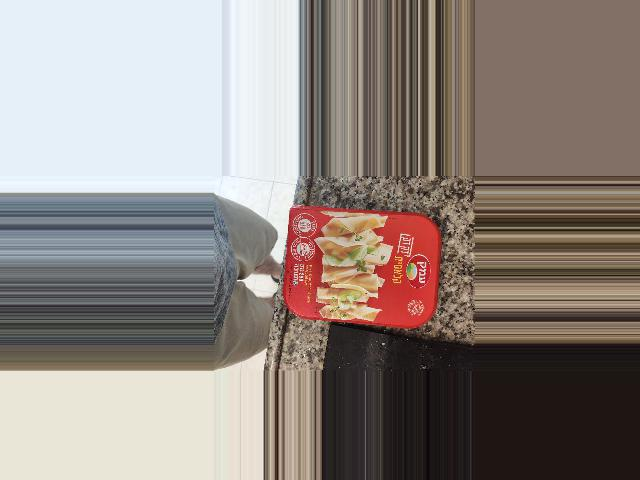cheese: (251, 220, 408, 345)
